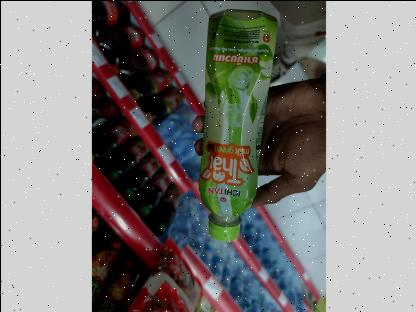Plastic Bottle: (183, 0, 279, 252)
